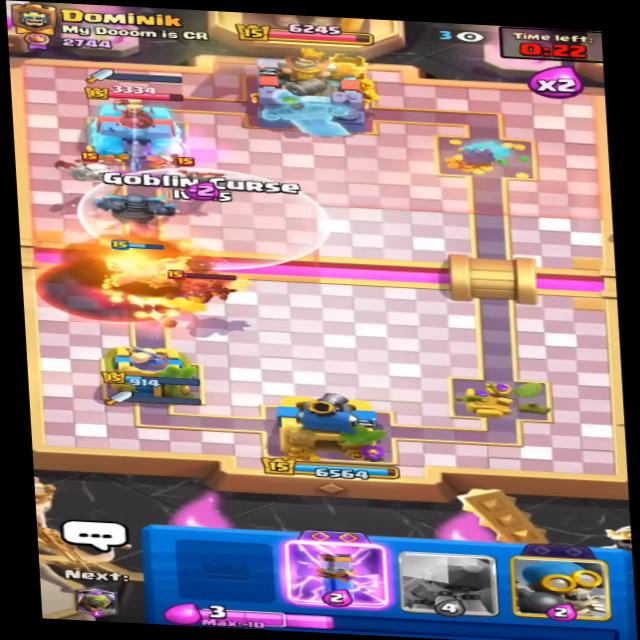lava-hound: (157, 260, 243, 311)
skeleton-dragon: (149, 153, 218, 204), (56, 151, 124, 193)
void: (30, 256, 184, 327)
